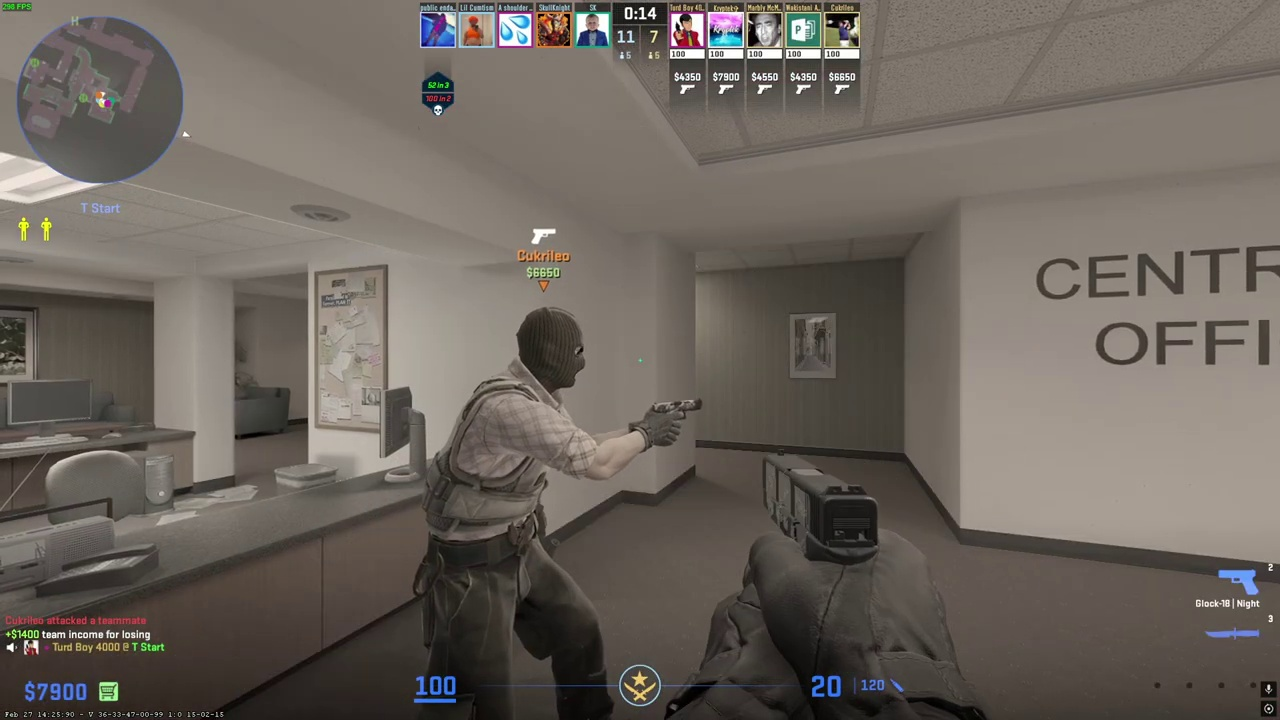Terrorist: (412, 306, 616, 718)
